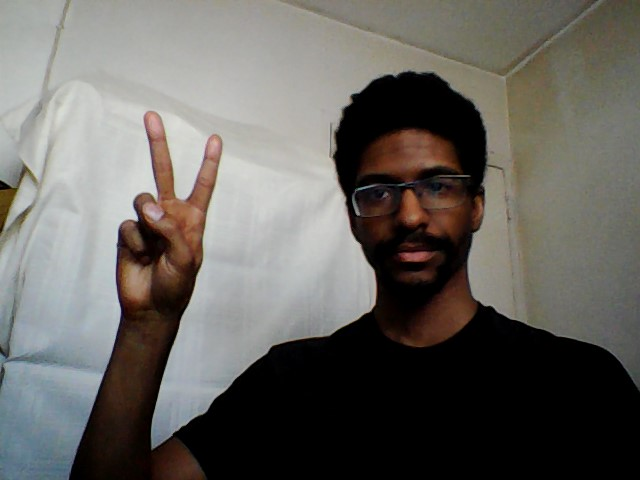v: (109, 102, 228, 316)
